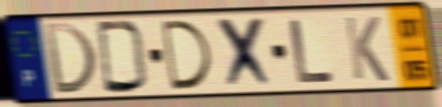D: (41, 21, 100, 97), (94, 19, 151, 96), (158, 18, 216, 93)
K: (341, 14, 392, 84)
L: (286, 17, 338, 85)
X: (214, 14, 277, 92)
